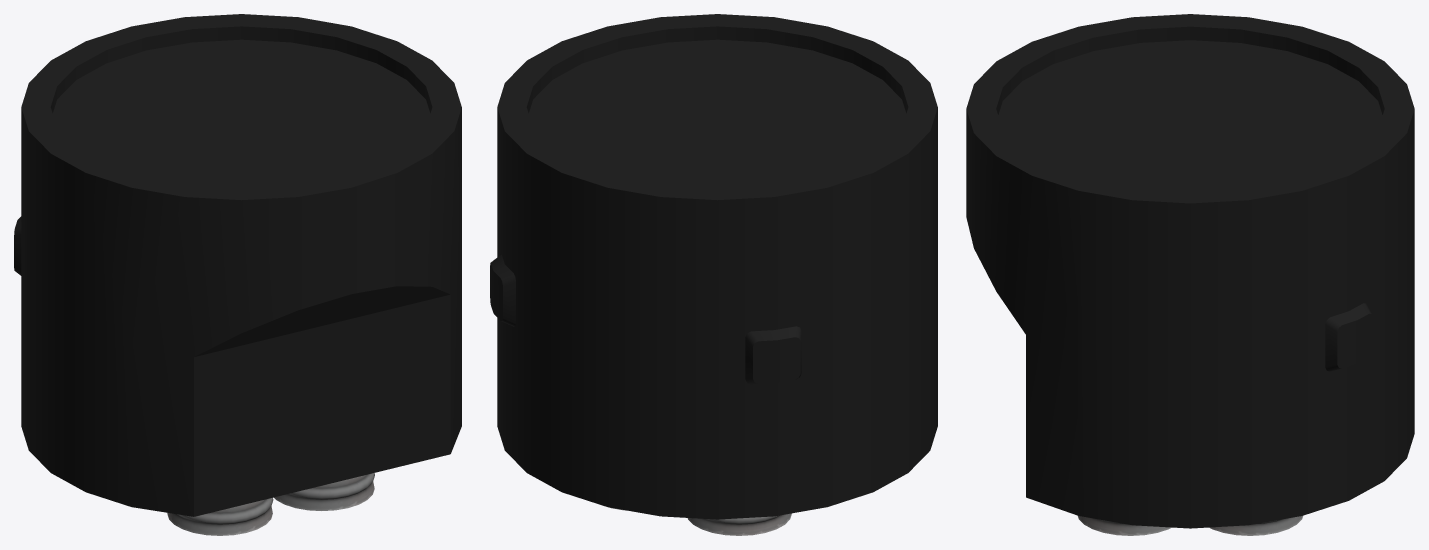
The model's file is tantares_lv_engine_s1p5_2.obj.
The picture shows the model from 3 angles, left to right: view 1: azimuth 30°, elevation 25°; view 2: azimuth 150°, elevation 25°; view 3: azimuth 270°, elevation 25°; orthographic projection.
Parts seen in each view (by area): view 1: tantares_lv_engine_s1p5_2, tantares_lv_engine_s1p5_2_nozzles; view 2: tantares_lv_engine_s1p5_2, tantares_lv_engine_s1p5_2_nozzles; view 3: tantares_lv_engine_s1p5_2, tantares_lv_engine_s1p5_2_nozzles.
Part boxes in pixels (box(x1,y1,x2,y2)): tantares_lv_engine_s1p5_2: box(14, 14, 461, 516); tantares_lv_engine_s1p5_2_nozzles: box(167, 473, 374, 535); tantares_lv_engine_s1p5_2: box(490, 14, 937, 519); tantares_lv_engine_s1p5_2_nozzles: box(609, 507, 791, 535); tantares_lv_engine_s1p5_2: box(966, 14, 1414, 528); tantares_lv_engine_s1p5_2_nozzles: box(1078, 516, 1302, 535).
Size of the model in its own units: 1.88 by 1.75 by 1.88.
